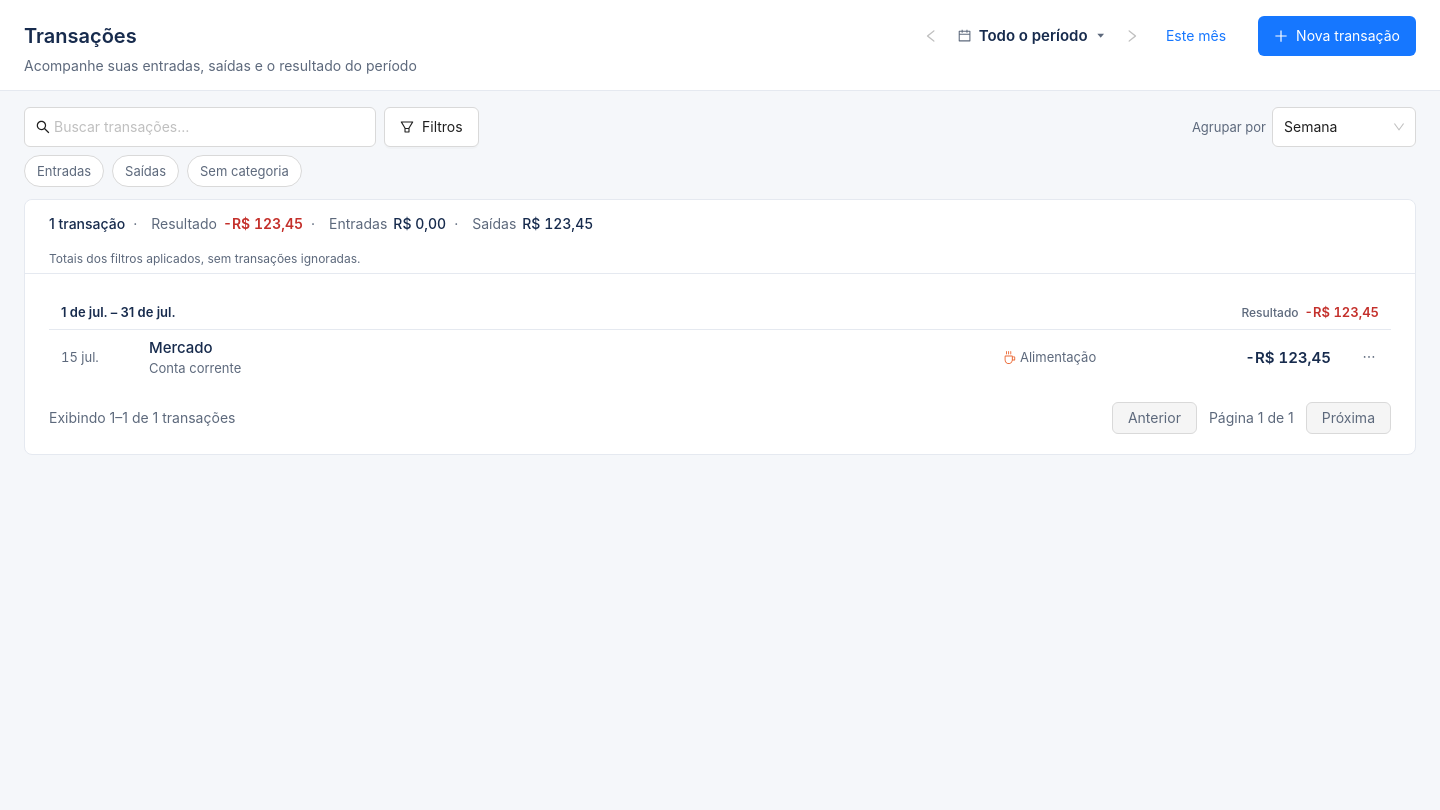
Test: TransactionsPage › marks and focuses the first invalid field of the new-transaction form
Expected: the button with aria-label "Ver detalhes de Mercado" is shown, 149,338 -> 987,358
Click the button "Nova transação" at (1337, 36), box 1258,16 -> 1416,56
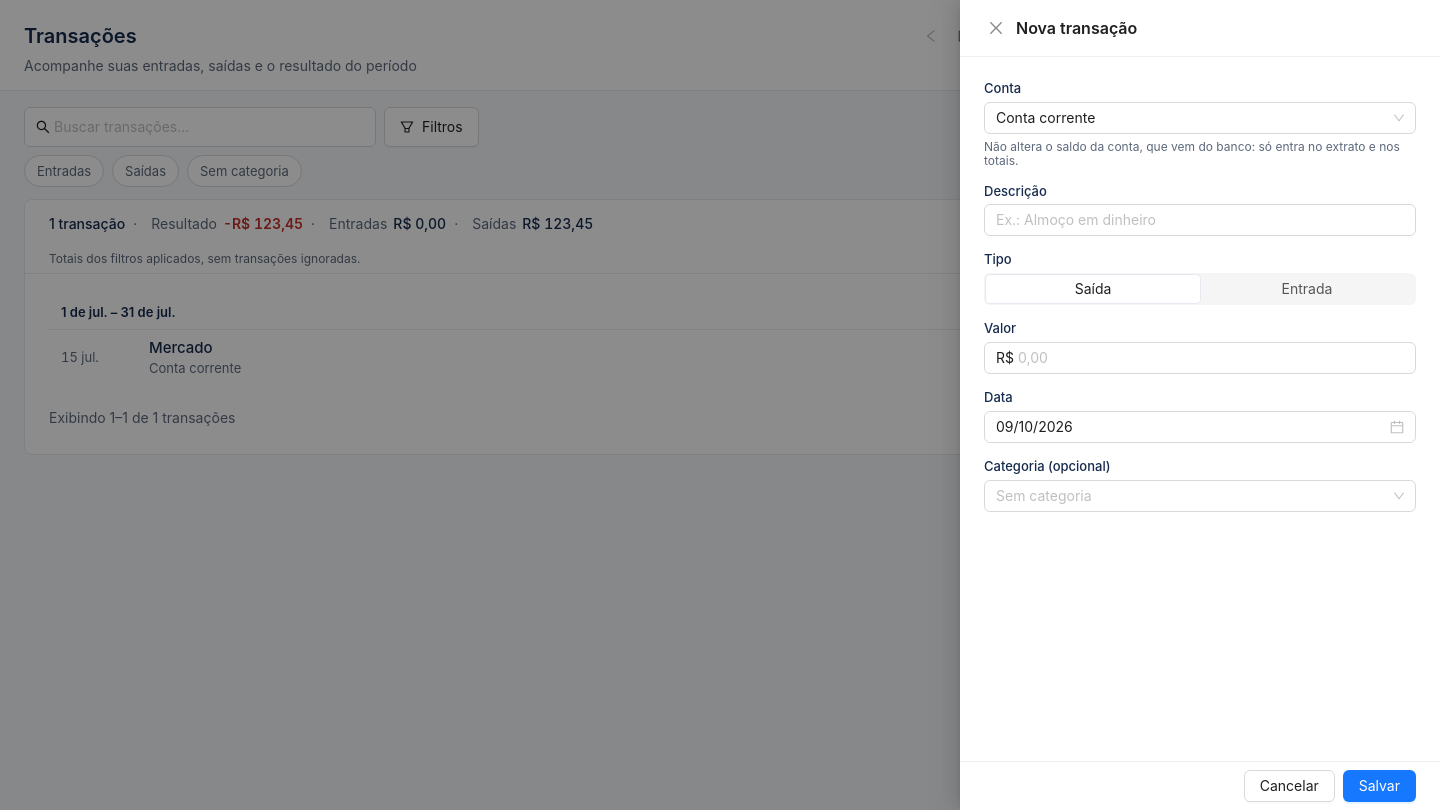
Click the button "Salvar" at (1379, 786), box 1343,770 -> 1416,802
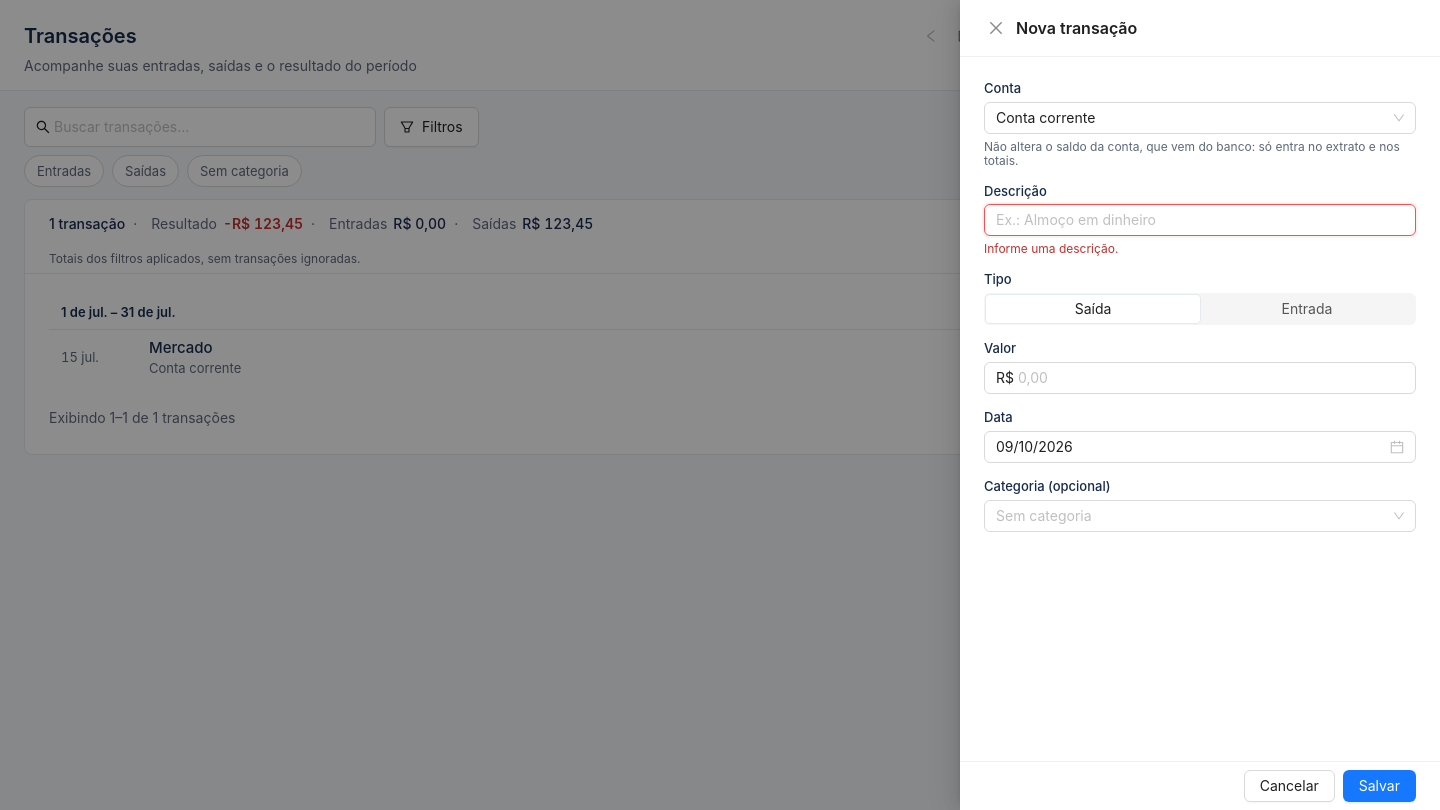
Expected: the text "Informe uma descrição." is shown, 984,242 -> 1118,256
